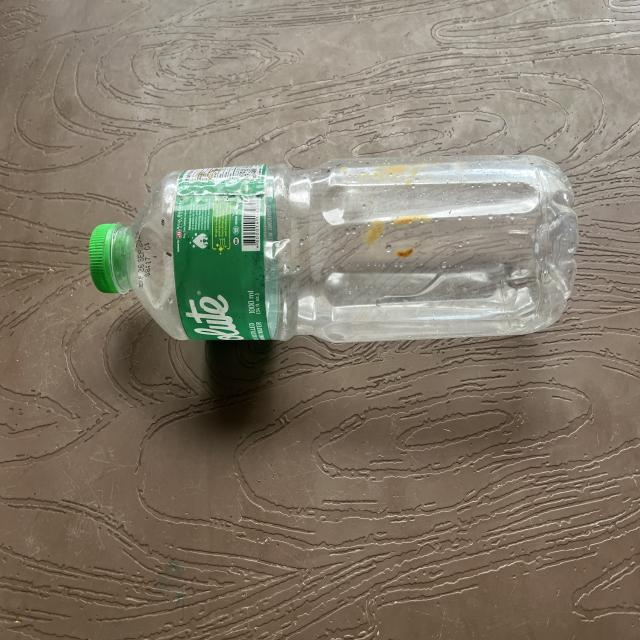REJECT: (89, 159, 595, 385)
